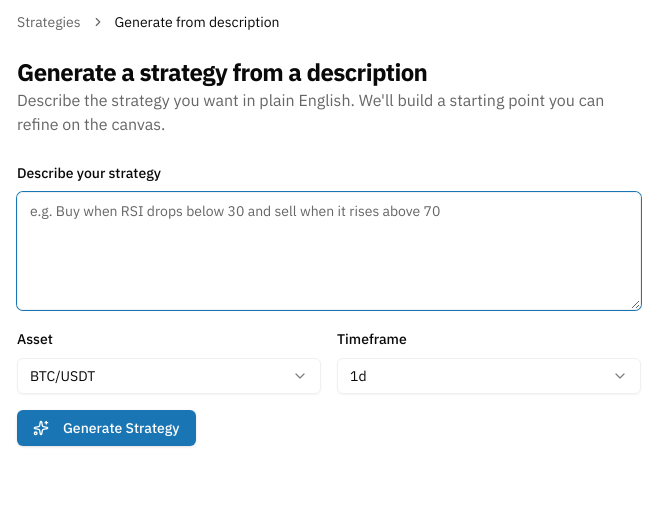
Test: DraftFromNlPage › shows a distinct 'slow down' message, separate from declined/disabled/error, on a 429
Replace the text in the text box labelled "Describe your strategy" with "buy when RSI drops below 30": coordinates (329, 251) [17,192,641,310]
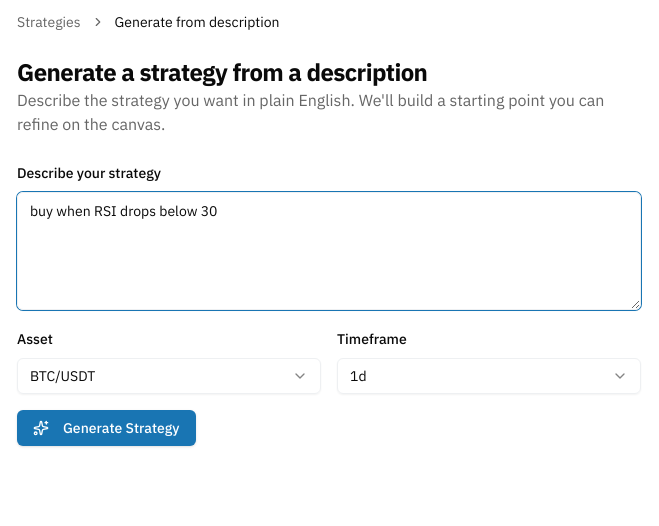
Click the button "Generate Strategy": coordinates (106, 428) [17,410,196,446]
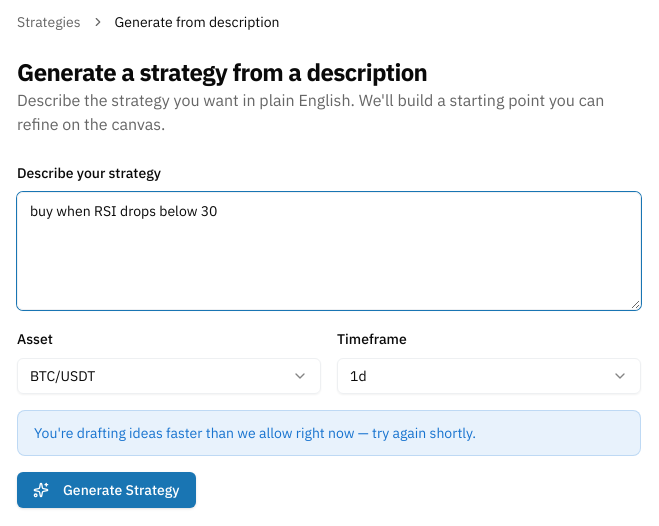
Check: the message shows "You're drafting ideas faster than we allow right now — try again shortly", box [34,424,476,442]
